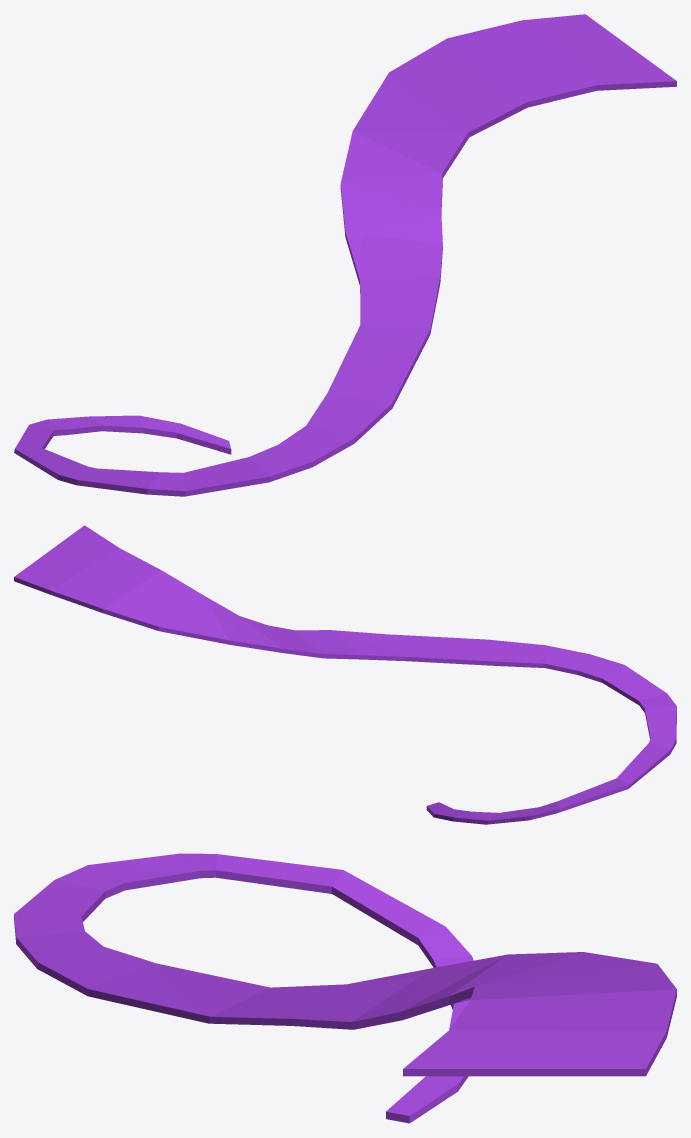
The model's file is Glass_101_chunks.fbx.
3 renders of one model, top to bottom at view 1: azimuth 30°, elevation 25°; view 2: azimuth 150°, elevation 25°; view 3: azimuth 270°, elevation 25°, orthographic. The views are drawn at different scales.
Parts seen in each view (by area): view 1: Glass_101_2, Glass_101_0, Glass_101_3, Glass_101_1; view 2: Glass_101_2, Glass_101_0, Glass_101_1, Glass_101_3; view 3: Glass_101_2, Glass_101_0, Glass_101_1, Glass_101_3.
Part boxes in pixels (box(x1,y1,x2,y2)): Glass_101_2: box(346, 14, 676, 333); Glass_101_0: box(76, 325, 430, 496); Glass_101_3: box(340, 73, 454, 325); Glass_101_1: box(14, 415, 231, 485); Glass_101_2: box(14, 525, 407, 661); Glass_101_0: box(387, 634, 676, 741); Glass_101_1: box(426, 737, 676, 824); Glass_101_3: box(160, 601, 407, 658); Glass_101_2: box(209, 963, 676, 1076); Glass_101_0: box(14, 853, 267, 1023); Glass_101_1: box(183, 853, 473, 1123); Glass_101_3: box(266, 952, 655, 988).
Bounding box in the file's own units: 5743 × 2073 × 3606.
